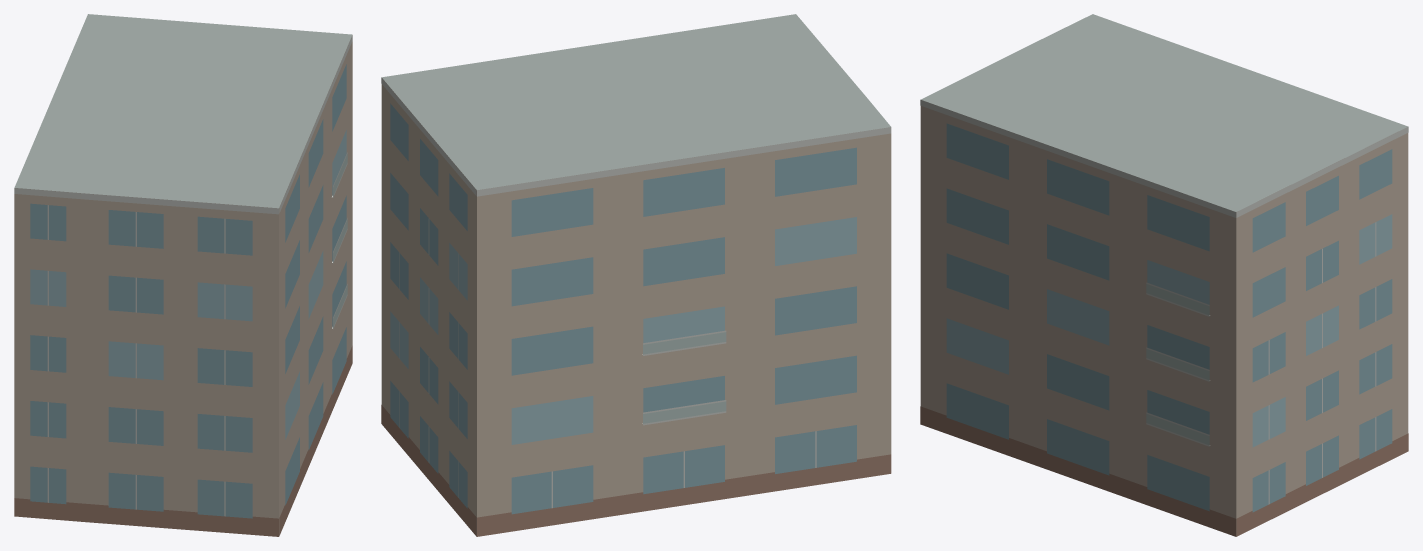
The model's file is survey-upis-32621437.glb.
3 views of the same model, side by side, from view 1: azimuth 30°, elevation 25°; view 2: azimuth 150°, elevation 25°; view 3: azimuth 270°, elevation 25° (orthographic). The views are drawn at different scales.
Parts seen in each view (by area): view 1: survey-upis-32621437.tmp; view 2: survey-upis-32621437.tmp; view 3: survey-upis-32621437.tmp.
Boxes of the visible parts, x1,y1,x2,y2 form: survey-upis-32621437.tmp: [14, 14, 352, 536]; survey-upis-32621437.tmp: [381, 14, 891, 536]; survey-upis-32621437.tmp: [920, 14, 1408, 536].
Size of the model in its own units: 17.28 by 13.2 by 17.98.
